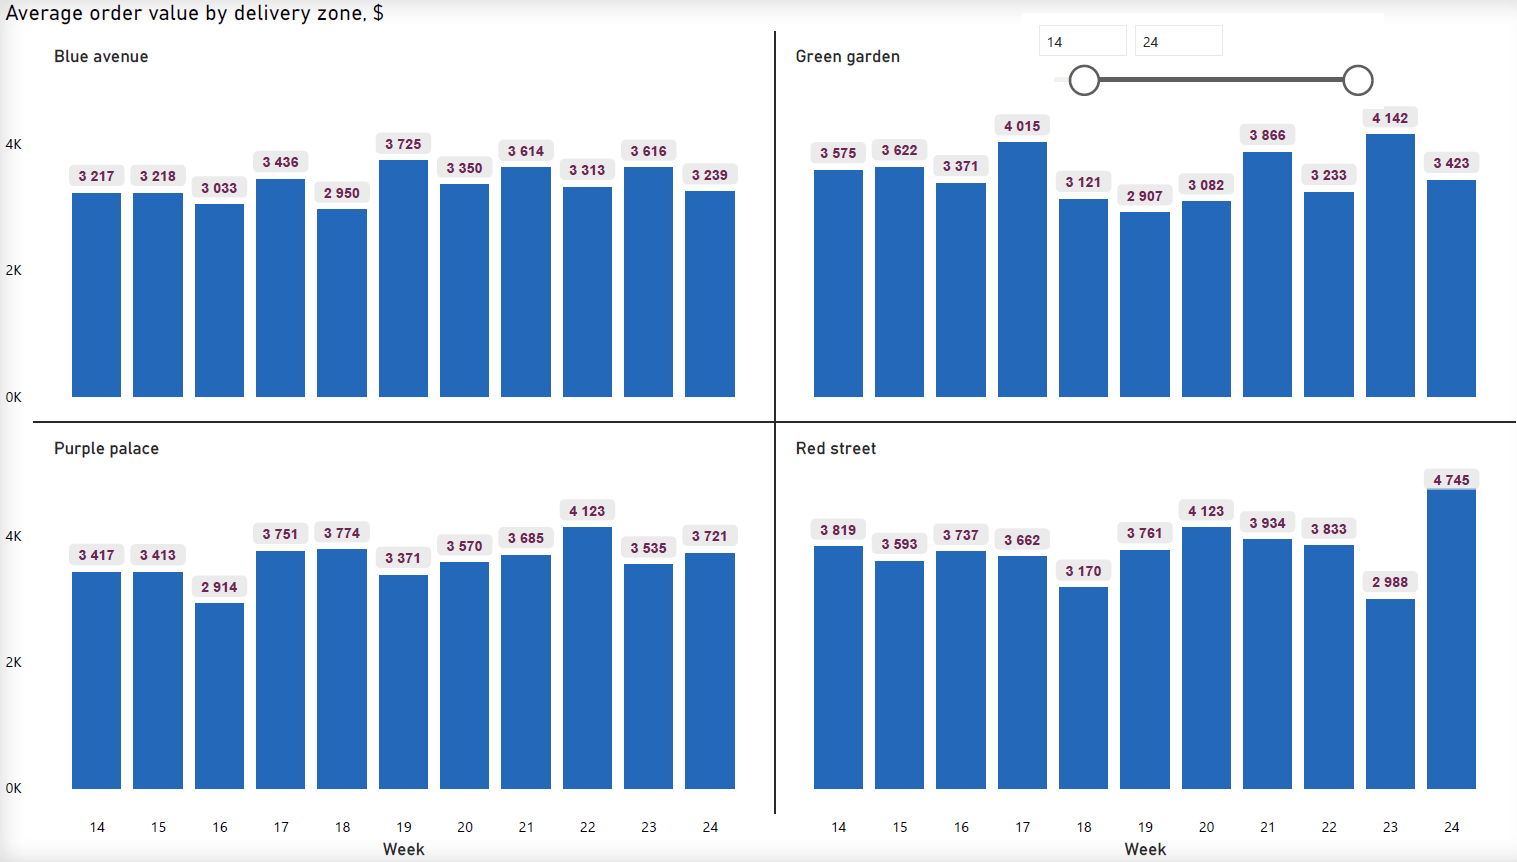

This screenshot's page, from the dashboard's own definition file:
{"tool":"powerbi","page":{"name":"Week -  AOV_by_zone","canvas":[1280,720],"ordinal":4},"visuals":[{"type":"lineStackedColumnComboChart","title":"Average order value by delivery zone, $","fields":{"Rows":["zone_economy.delivery_zone"],"Category":["zone_economy.Week"],"Y":["zone_economy.AOV"]},"box":[0,0,1280,719.8],"z":0},{"type":"slicer","fields":{"Values":["zone_economy.Week"]},"box":[852,11,300,79],"z":3000}]}

Visuals, with their boxes in screenshot pixels (x1, y1, x2, y2), scaled from the page's 1280x720 canvas onto the 1517x862 screenshot:
"Average order value by delivery zone, $" lineStackedColumnComboChart: x1=0, y1=0, x2=1516, y2=861
slicer - zone_economy.Week: x1=1010, y1=13, x2=1365, y2=108
